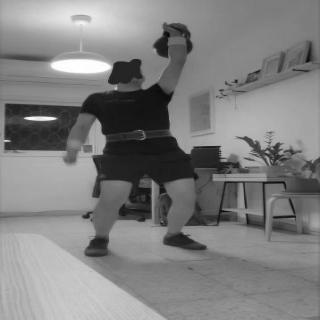kettlebell: (126, 22, 211, 62)
